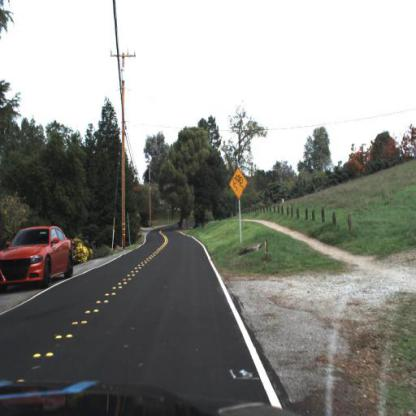car: (1, 226, 75, 296)
